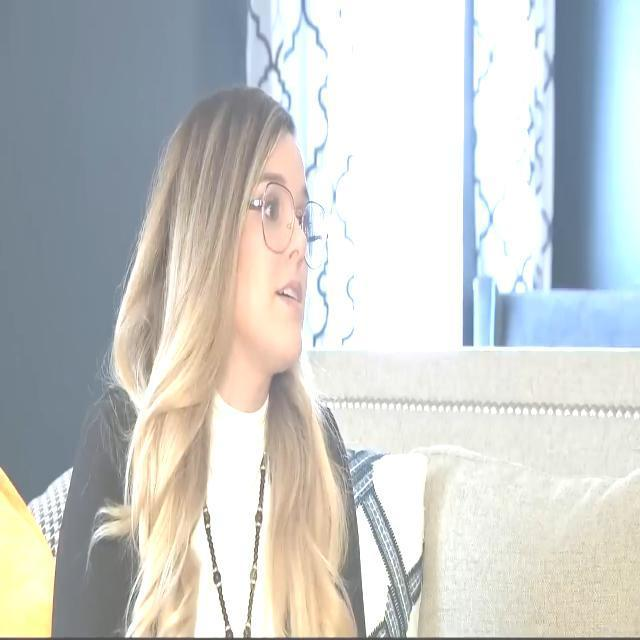non-fight: (96, 48, 434, 640)
